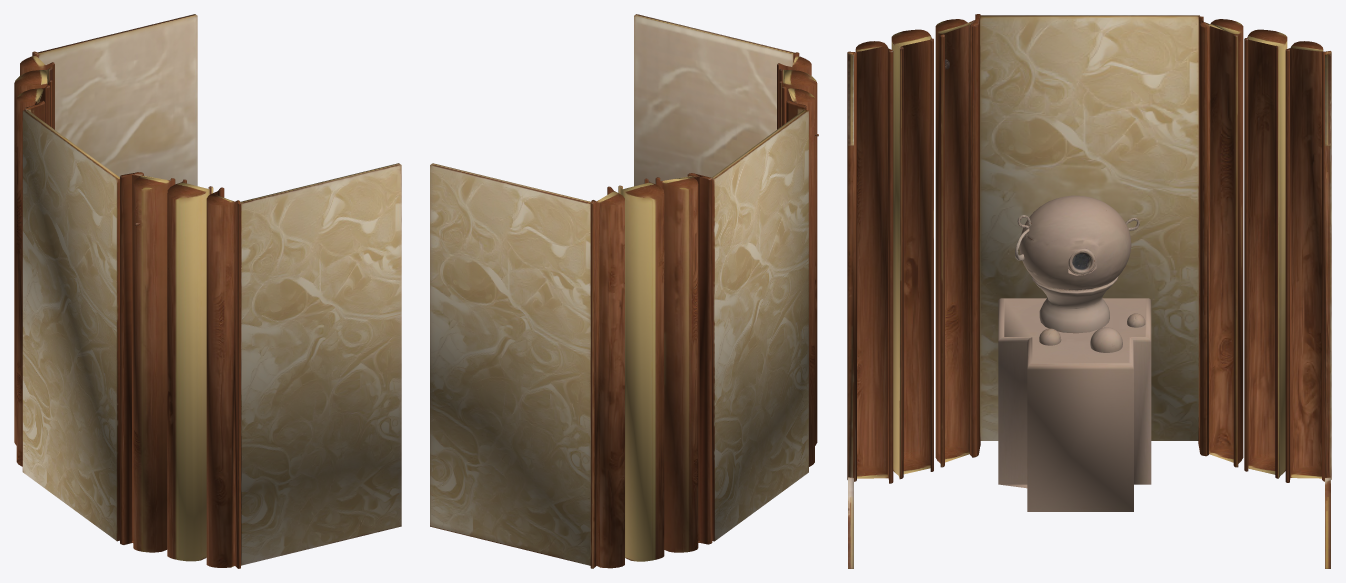
Rendered from wall-panel.glb.
The picture shows the model from 3 angles, left to right: view 1: azimuth 30°, elevation 25°; view 2: azimuth 150°, elevation 25°; view 3: azimuth 270°, elevation 25°; orthographic projection. The views are drawn at different scales.
Parts seen in each view (by area): view 1: tripo_node_53570e3d-b302-44f7-8d76-36f00197dc0f; view 2: tripo_node_53570e3d-b302-44f7-8d76-36f00197dc0f; view 3: tripo_node_53570e3d-b302-44f7-8d76-36f00197dc0f.
Part boxes in pixels (bbox=[...]): tripo_node_53570e3d-b302-44f7-8d76-36f00197dc0f: bbox=[14, 14, 401, 568]; tripo_node_53570e3d-b302-44f7-8d76-36f00197dc0f: bbox=[430, 14, 818, 568]; tripo_node_53570e3d-b302-44f7-8d76-36f00197dc0f: bbox=[847, 14, 1331, 568].
Bounding box in the file's own units: 0.6372 × 0.9878 × 0.9995.
1 material, 1 textured.
